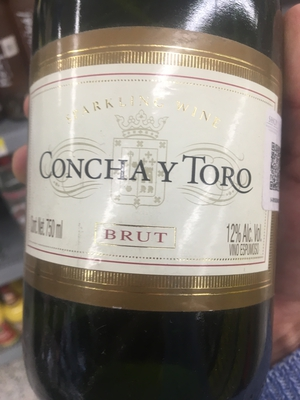brut: (24, 5, 286, 392)
